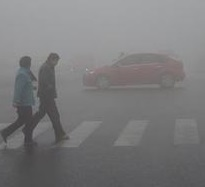person: (21, 52, 71, 143), (1, 54, 40, 148)
